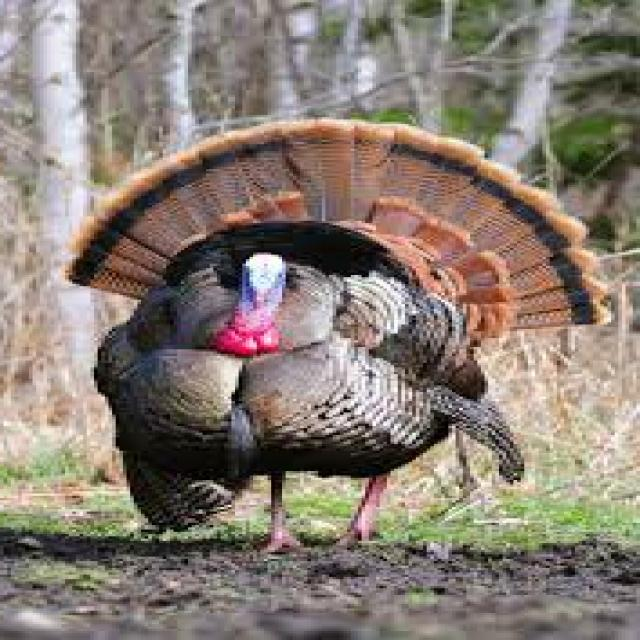turkey: (72, 119, 607, 548)
